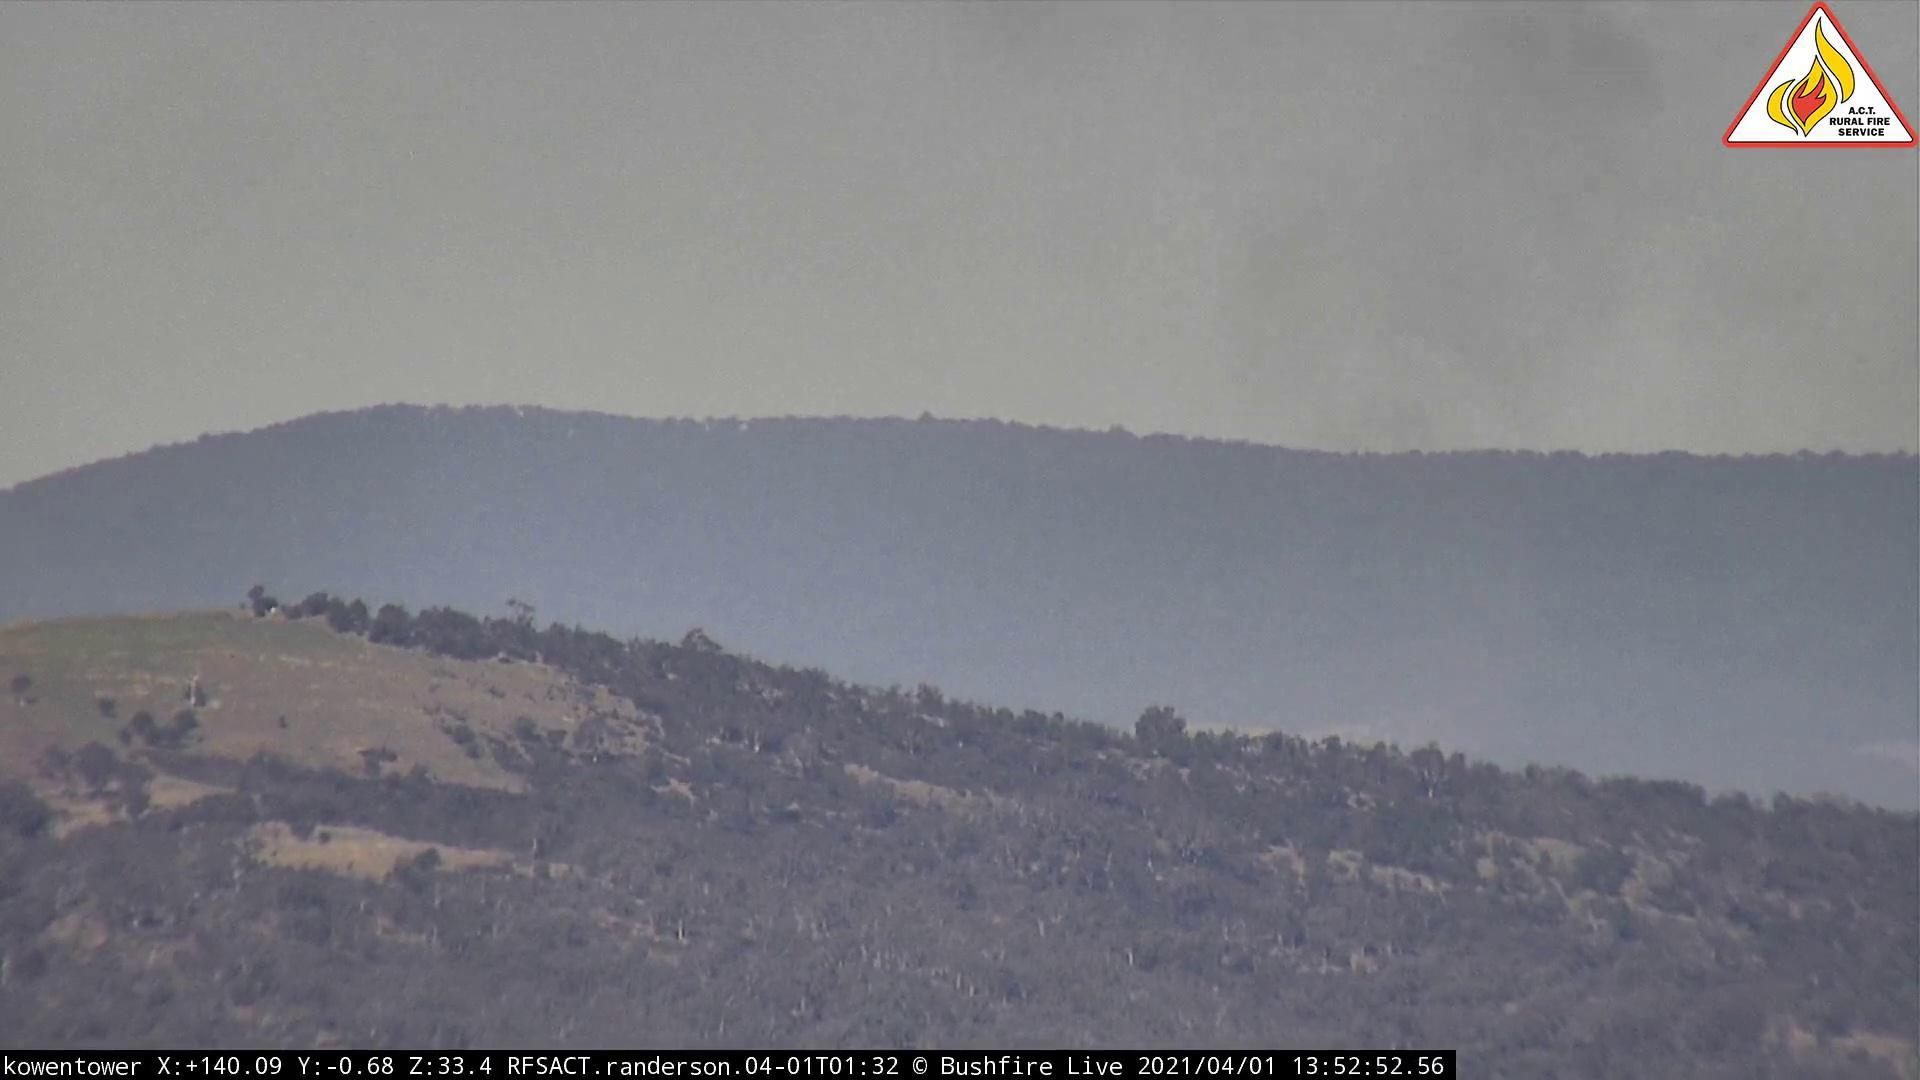Smoke: (1226, 3, 1721, 754)
